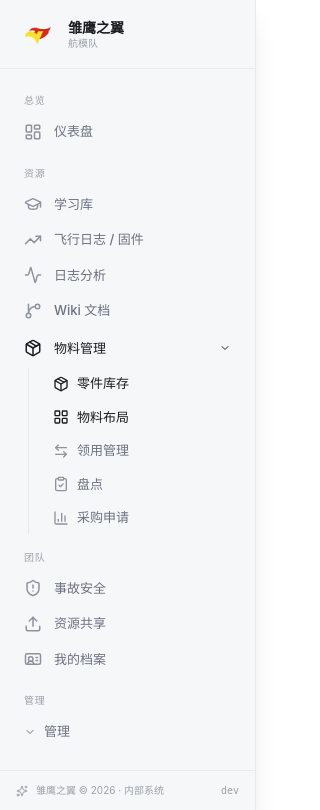
Test: 标签模板入口的可见性 › 部长：管理分组里有别的入口，但没有「标签模板」（系统级只给管理员）
The image size is (320, 810).
What coordinates should you click on to do the following:
click the button "管理"
I would click on:
 (128, 732)
Its box is [12,714,243,750].
(page scrolled)
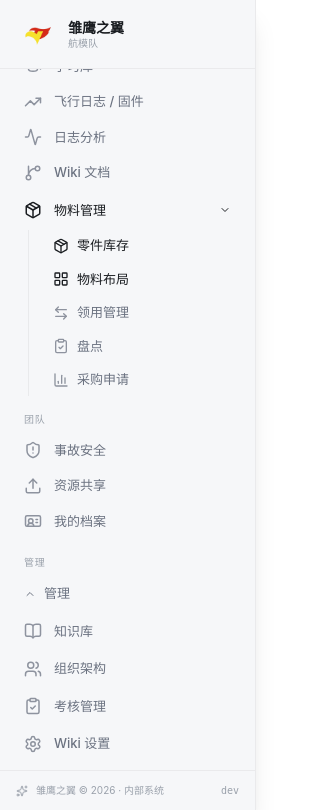
Now the link "组织架构" is shown, box [24,660,106,678]
